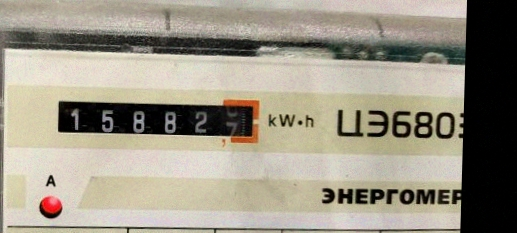1: (68, 105, 81, 131)
2: (192, 109, 209, 134)
5: (99, 107, 114, 133)
7: (223, 119, 239, 136)
8: (130, 108, 147, 133), (162, 109, 178, 134)
screen: (47, 88, 267, 152)
